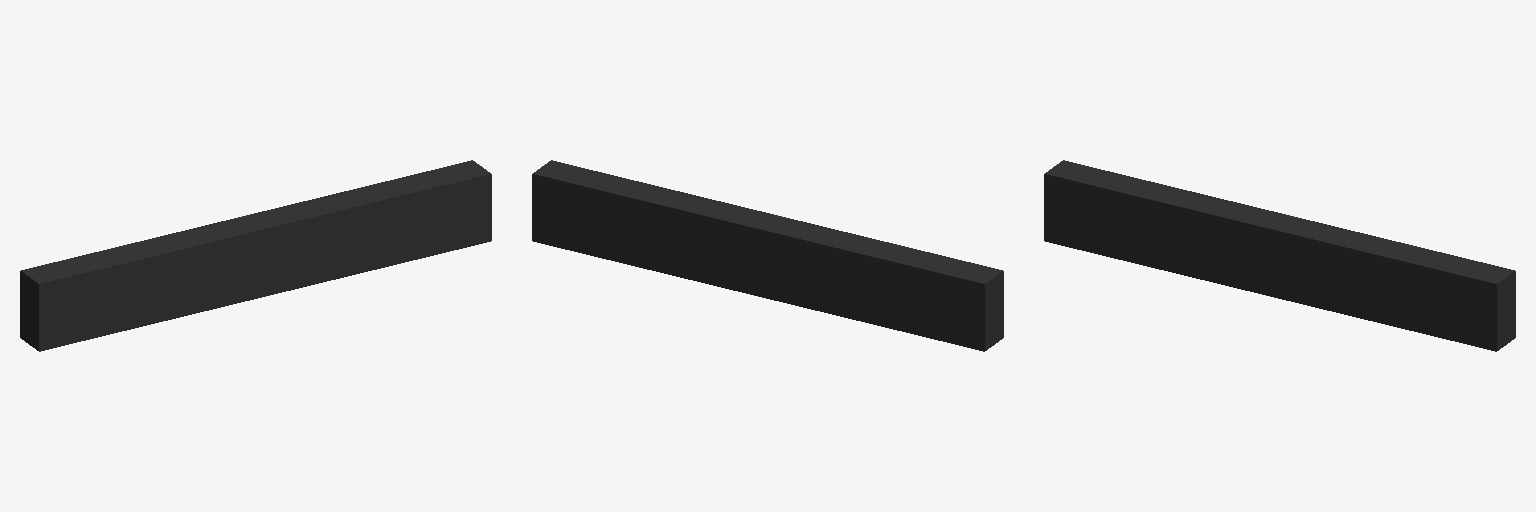
URDF robot description (wall):
<robot name="wall">
  <link name="baseLink">
   
    <inertial>
      <origin rpy="0 0 0" xyz="0 0 0" />
       <mass value="1000.0" />
       <inertia ixx="0" ixy="0" ixz="0" iyy="0" iyz="0" izz="0" />
    </inertial>
    <visual>
      <origin rpy="0 0 0" xyz="0 0 0" />
      <geometry>
			  <box size="14 1 2" />
      </geometry>
       <material name="grey">
        <color rgba="0.24 0.24 0.24 1" />
      </material>
    </visual>
    <collision>
      <origin rpy="0 0 0" xyz="0 0 0" />
      <geometry>
	 	      <box size="14 1 2" />
      </geometry>
    </collision>
  </link>
</robot>

--- Facts derived from the render (not from the file) ---
3 views of the same robot in one strip: view 1: azimuth 30°, elevation 25°; view 2: azimuth 150°, elevation 25°; view 3: azimuth 330°, elevation 25° (orthographic).
Model wall with 1 links and 0 joints (none), rooted at baseLink, posed all joints at 0.
Visible links, largest first — view 1: baseLink; view 2: baseLink; view 3: baseLink.
Boxes of the visible links, x1,y1,x2,y2 form: baseLink: (20,160,491,351); baseLink: (532,160,1003,351); baseLink: (1044,160,1515,351).
Bounding box of the posed robot: 14 × 1 × 2 m (x, y, z).
Geometry: primitives only (box / cylinder / sphere), no mesh files.